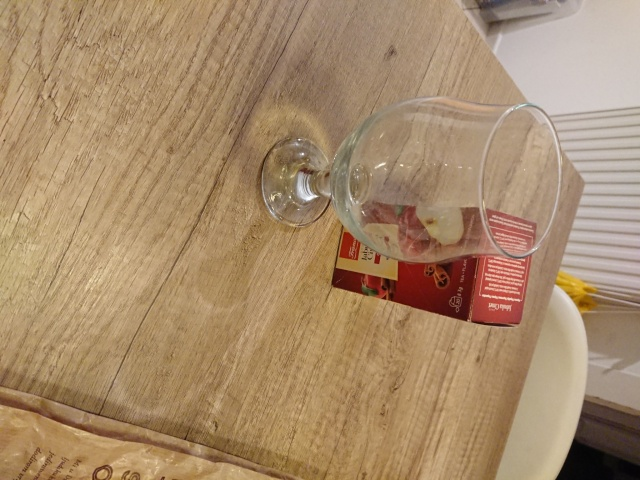Franck Apple Cinnamon Tea 60g: (327, 197, 540, 331)
